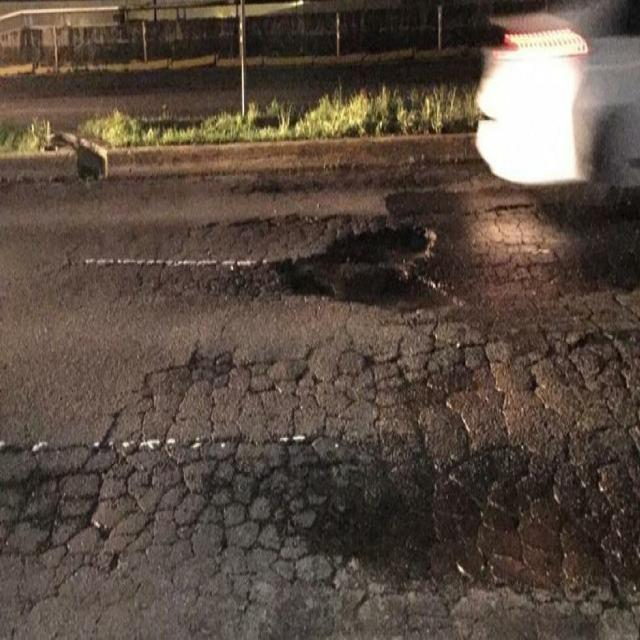Buraco: (263, 218, 470, 322)
